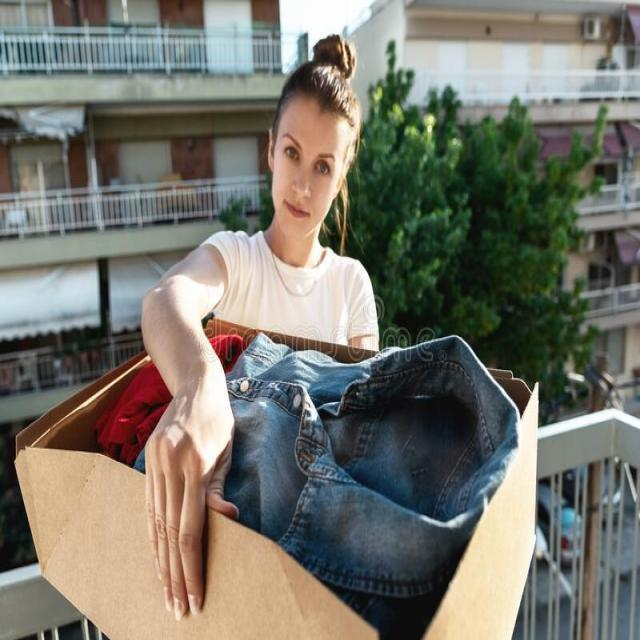clothes: (213, 313, 508, 598)
